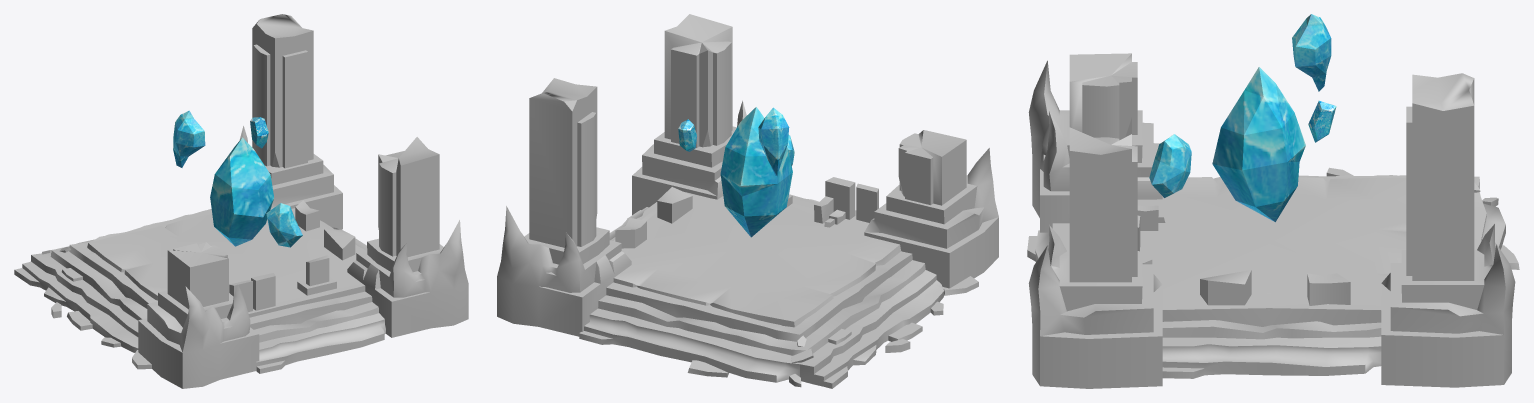
File: TopBlueBase.FBX
The picture shows the model from 3 angles, left to right: view 1: azimuth 30°, elevation 25°; view 2: azimuth 150°, elevation 25°; view 3: azimuth 270°, elevation 25°; orthographic projection. The views are drawn at different scales.
Visible parts, largest first — view 1: TopBlueBase, TopBlueBase_crystal01, TopBlueBase_crystal02, TopBlueBase_crystal03, TopBlueBase_crystal04; view 2: TopBlueBase, TopBlueBase_crystal01, TopBlueBase_crystal02, TopBlueBase_crystal04; view 3: TopBlueBase, TopBlueBase_crystal01, TopBlueBase_crystal02, TopBlueBase_crystal03, TopBlueBase_crystal04.
Part boxes in pixels (<box>): TopBlueBase: <box>14,14,468,388</box>; TopBlueBase_crystal01: <box>210,137,273,246</box>; TopBlueBase_crystal02: <box>173,110,205,167</box>; TopBlueBase_crystal03: <box>266,203,302,247</box>; TopBlueBase_crystal04: <box>250,117,268,148</box>; TopBlueBase: <box>497,14,998,388</box>; TopBlueBase_crystal01: <box>720,107,792,237</box>; TopBlueBase_crystal02: <box>758,107,789,175</box>; TopBlueBase_crystal04: <box>678,119,696,151</box>; TopBlueBase: <box>1027,53,1519,388</box>; TopBlueBase_crystal01: <box>1212,67,1305,222</box>; TopBlueBase_crystal02: <box>1292,14,1331,91</box>; TopBlueBase_crystal03: <box>1149,134,1191,197</box>; TopBlueBase_crystal04: <box>1308,100,1336,142</box>.
Size of the model in its own units: 1010 by 624 by 990.
